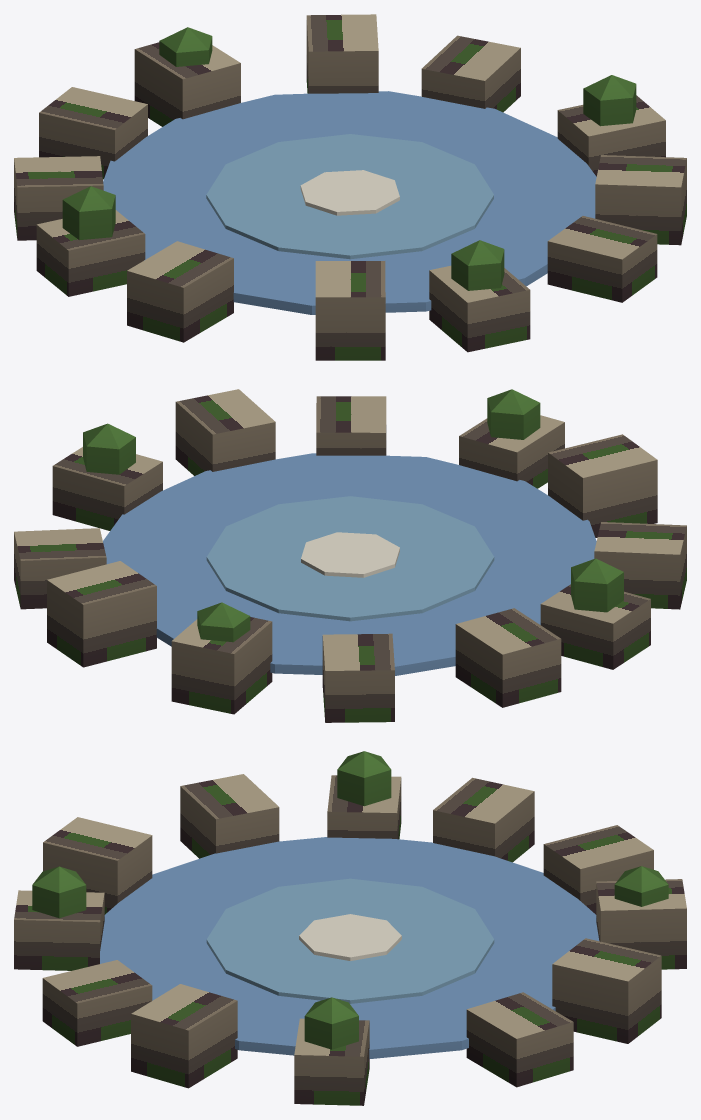
The model's file is spring_basin.glb.
The picture shows the model from 3 angles, top to bottom: view 1: azimuth 30°, elevation 25°; view 2: azimuth 150°, elevation 25°; view 3: azimuth 270°, elevation 25°; orthographic projection.
Parts seen in each view (by area): view 1: spring_basin; view 2: spring_basin; view 3: spring_basin.
Part boxes in pixels (x1,y1,x2,y2): spring_basin: (14, 14, 686, 360); spring_basin: (14, 389, 686, 722); spring_basin: (14, 751, 686, 1105).
Bounding box in the file's own units: 3.27 × 0.48 × 3.28.
Materials: 3 (1 with a texture image).
